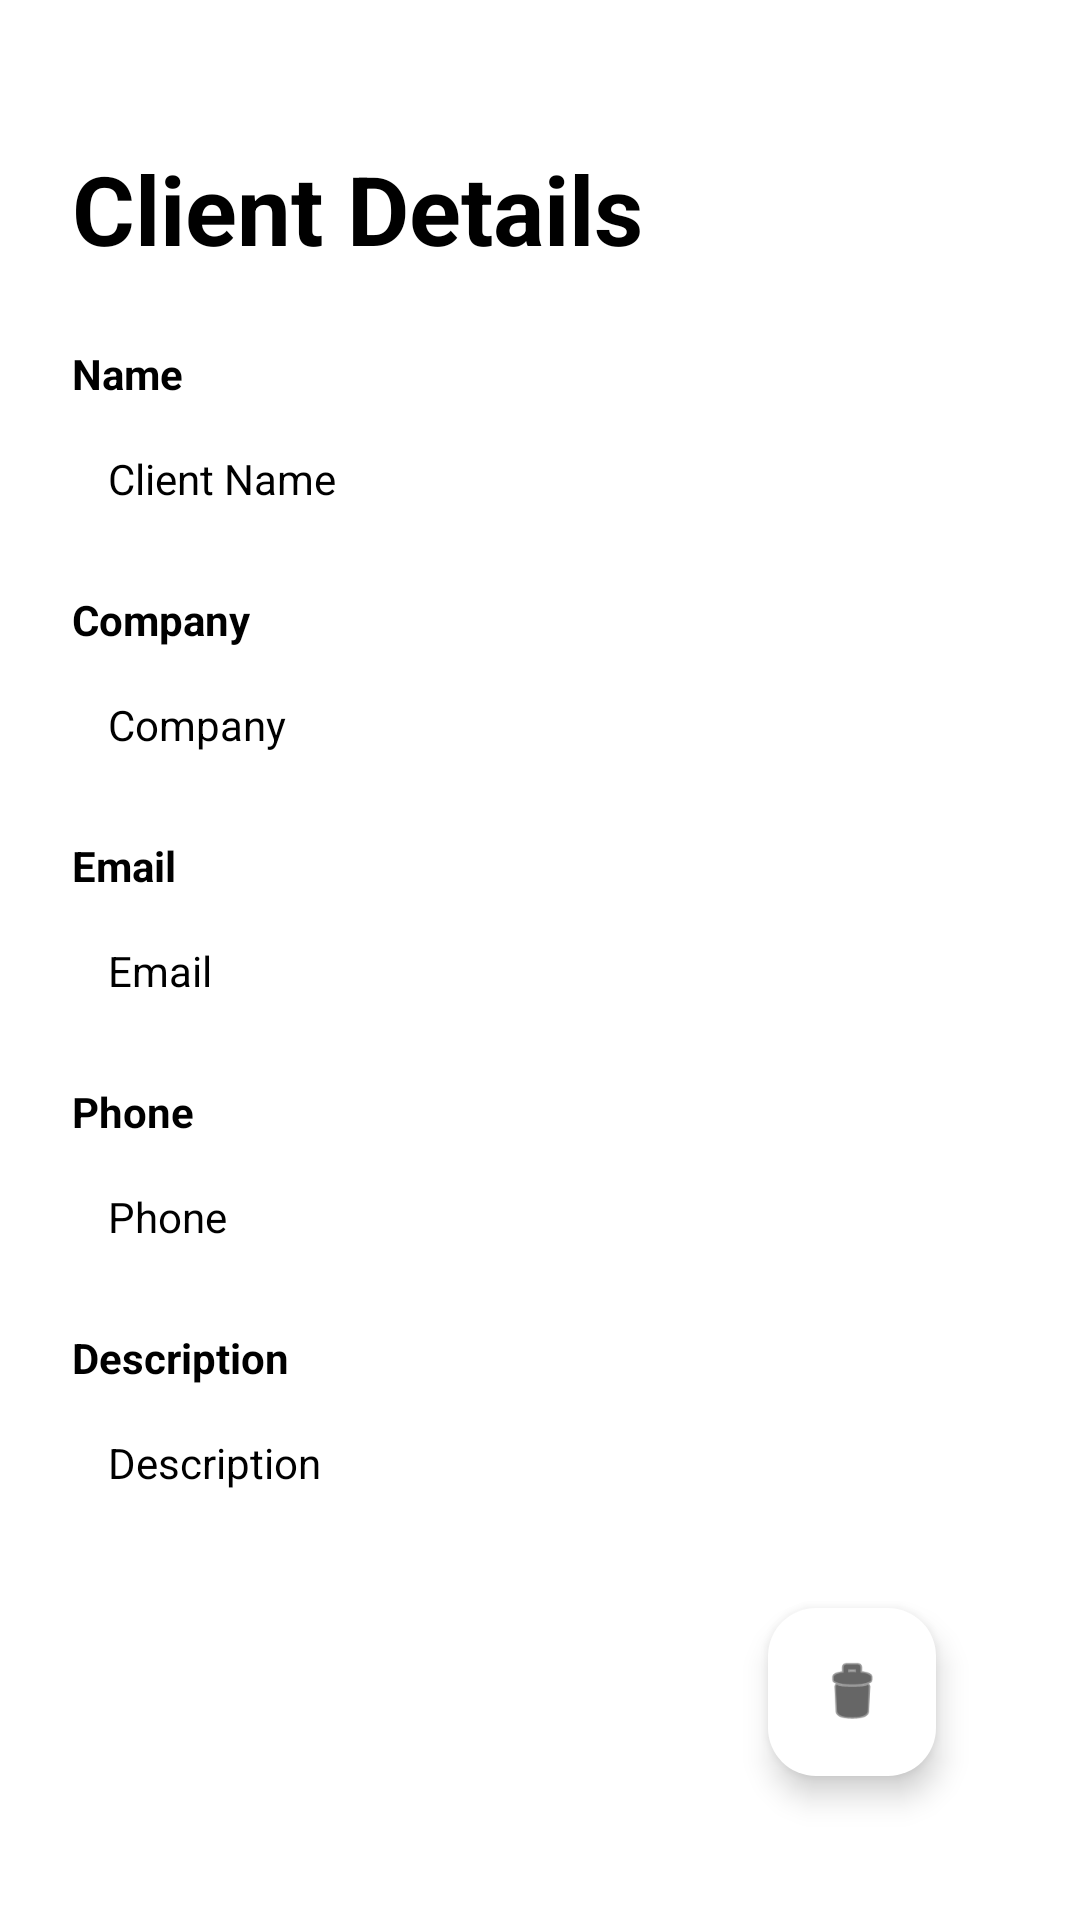

Named icons in this screenshot (1080 x 1920) and their bounding boxes, (x1, y1, x2, y2):
delete: (832, 1663, 873, 1719)
